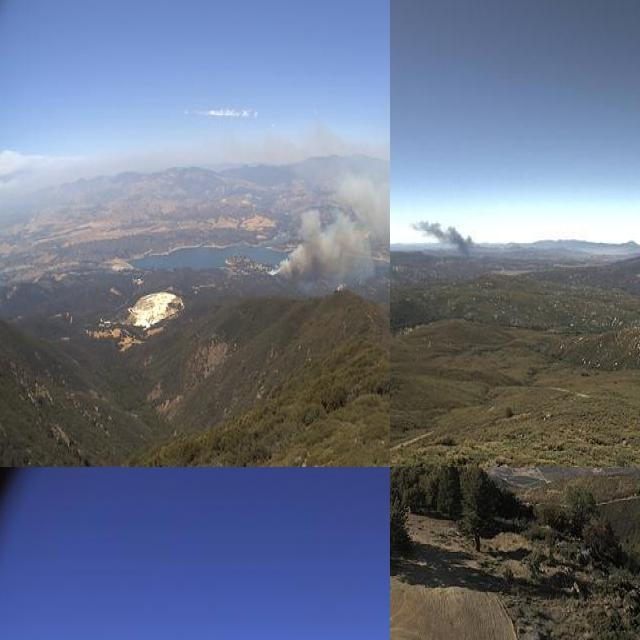smoke: (263, 136, 390, 296), (406, 215, 486, 270)
